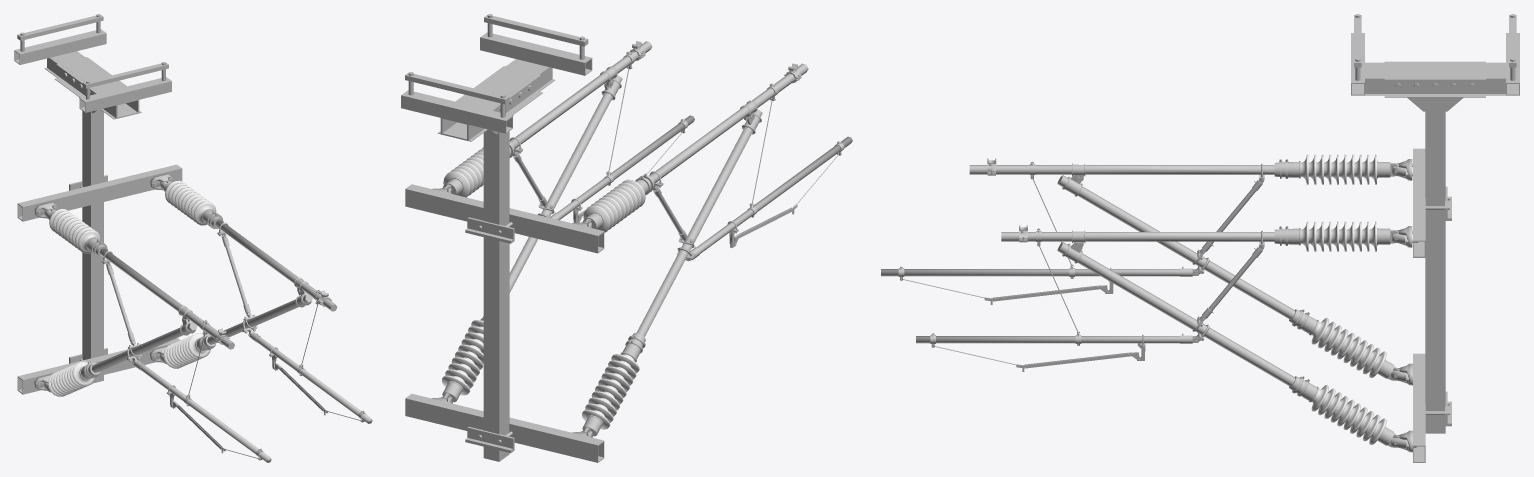
The model's file is gantry_double_3.obj.
3 renders of one model, left to right at view 1: azimuth 30°, elevation 25°; view 2: azimuth 150°, elevation 25°; view 3: azimuth 270°, elevation 25°, orthographic. The views are drawn at different scales.
Visible parts, largest first — view 1: 1.061, 立方体.369, 1.067, 立方体.182, 1.064, 1.058, 立方体.173, 立方体.175, 立方体.177, 立方体.168, 立方体.165, 立方体.176 (+4 smaller); view 2: 立方体.369, 1.061, 1.067, 立方体.182, 立方体.177, 1.058, 1.064, 立方体.175, 立方体.173, 立方体.168, 立方体.165, 立方体.176 (+5 smaller); view 3: 1.061, 1.067, 立方体.369, 1.058, 1.064, 立方体.168, 立方体.165, 立方体.177, 立方体.182, 1.066, 1.060.
Boxes of the visible parts, x1,y1,x2,y2 form: 1.061: (47,209,271,462); 立方体.369: (82,110,103,383); 1.067: (163,181,372,423); 立方体.182: (17,164,182,221); 1.064: (163,180,216,368); 1.058: (48,209,100,396); 立方体.173: (14,29,106,64); 立方体.175: (79,77,171,112); 立方体.177: (17,338,180,394); 立方体.168: (49,51,126,93); 立方体.165: (47,58,139,118); 立方体.176: (82,62,168,88); 立方体.369: (483,130,509,461); 1.061: (582,63,852,437); 1.067: (442,41,694,403); 立方体.182: (405,184,604,253); 立方体.177: (405,393,604,462); 1.058: (582,179,645,429); 1.064: (442,147,483,395); 立方体.175: (480,32,592,75); 立方体.173: (401,90,512,133); 立方体.168: (455,59,549,110); 立方体.165: (440,67,552,140); 立方体.176: (484,14,588,46); 1.061: (881,158,1398,380); 1.067: (916,225,1398,447); 立方体.369: (1425,97,1445,433); 1.058: (1300,154,1386,377); 1.064: (1300,221,1386,444); 立方体.168: (1365,61,1505,79); 立方体.165: (1365,79,1505,93); 立方体.177: (1413,353,1425,462); 立方体.182: (1413,148,1425,257); 1.066: (930,333,1145,371); 1.060: (898,266,1113,304).
Bounding box in the file's own units: 1.72 × 3.42 × 5.04.
